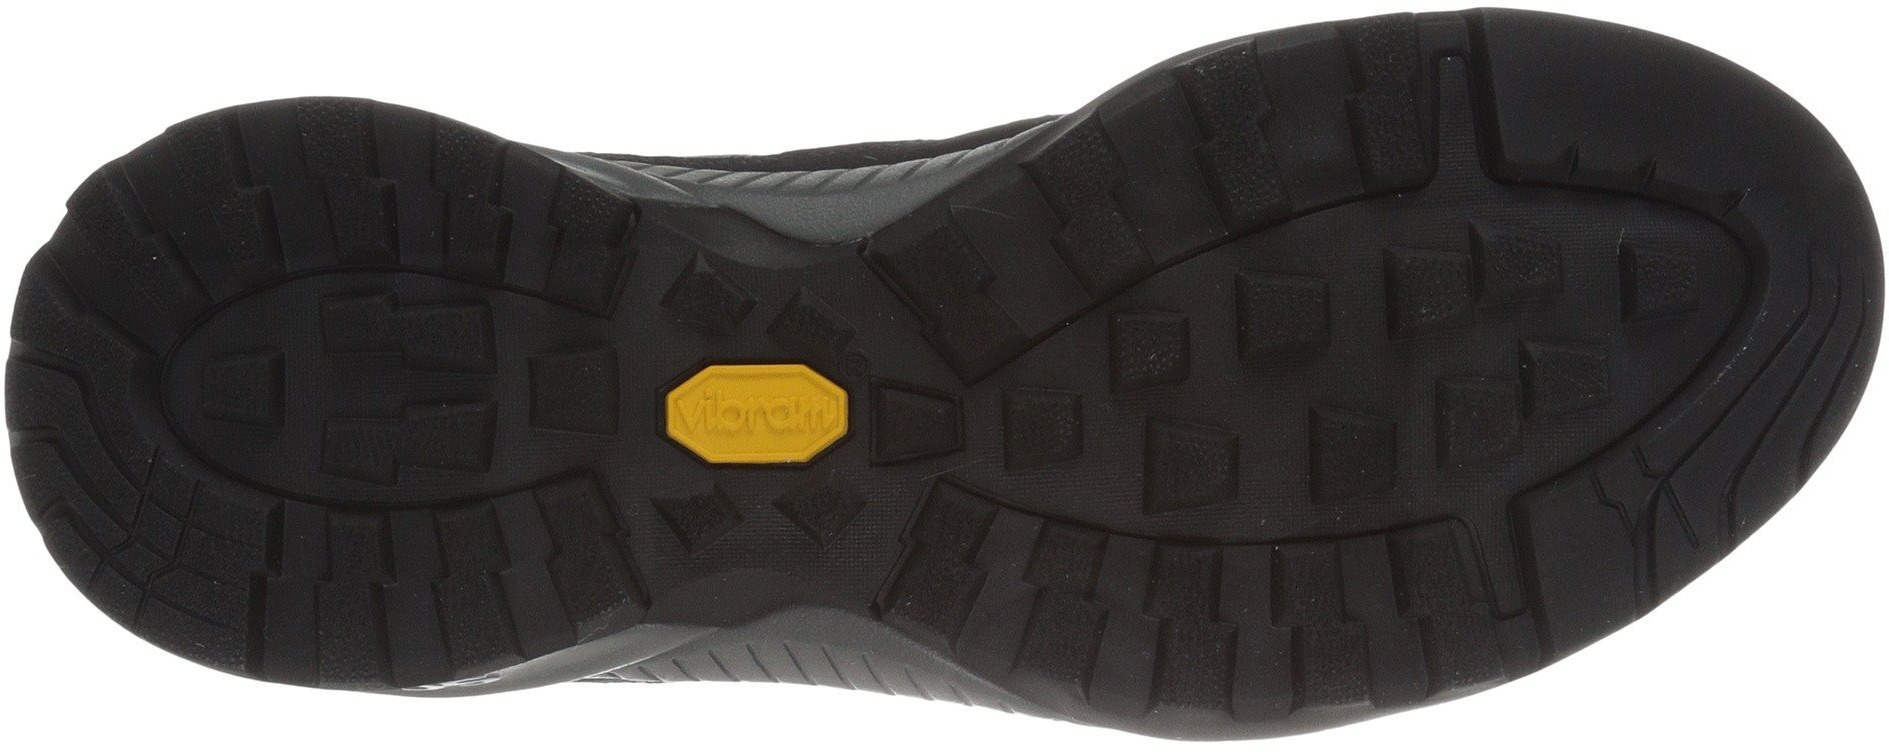other: (1522, 48, 1653, 161)
quad: (1079, 289, 1370, 540), (1412, 219, 1620, 434), (498, 337, 655, 466)
text: (690, 384, 783, 469), (792, 393, 838, 440)
